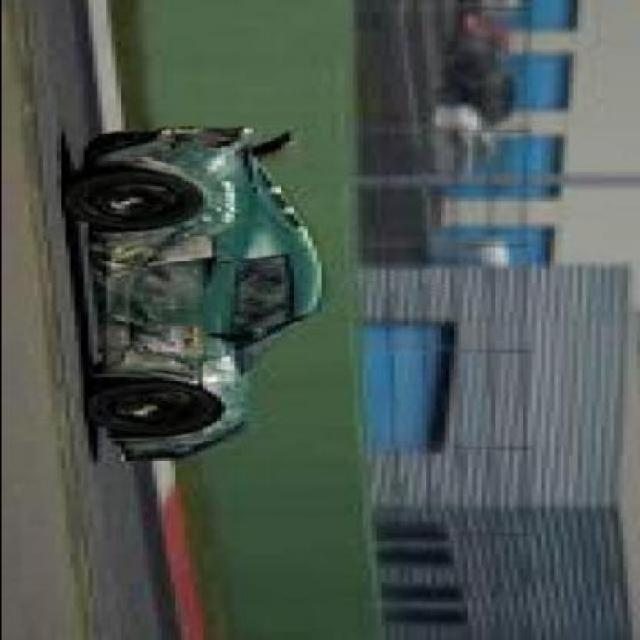damage: (80, 135, 241, 457)
